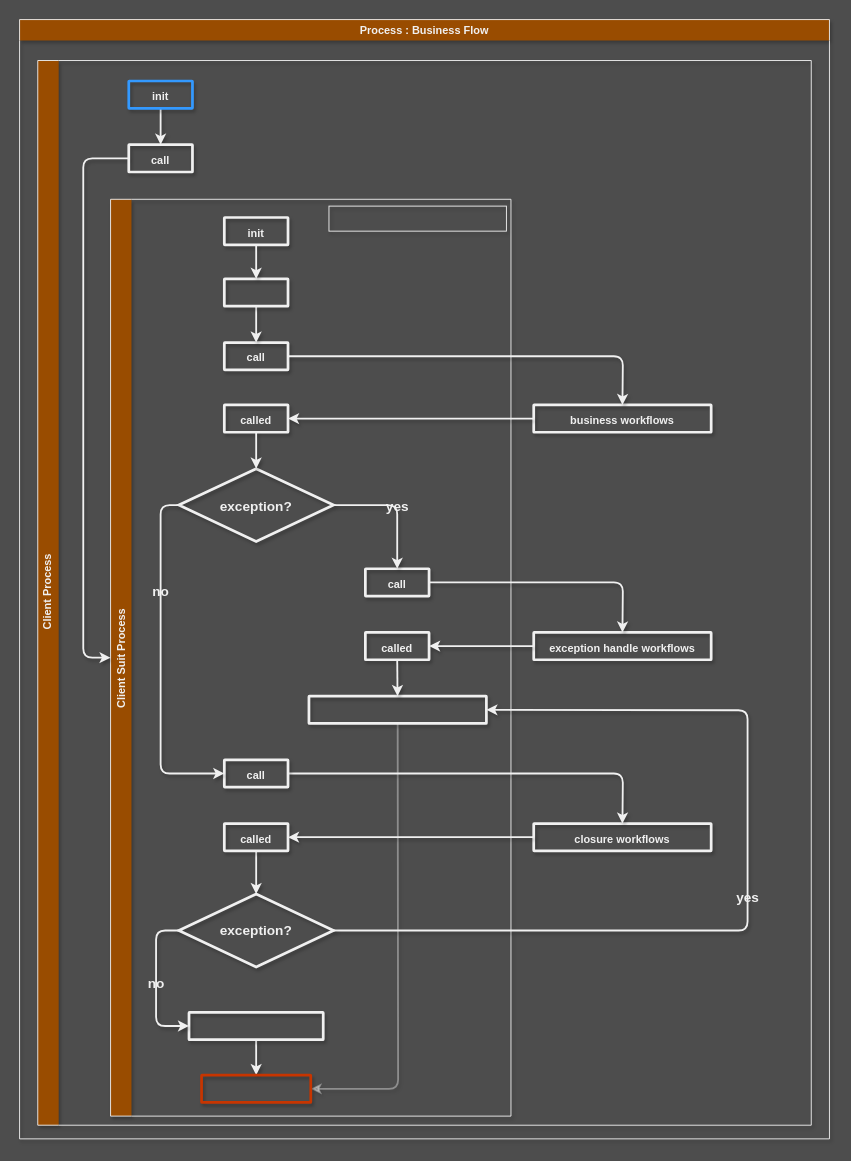
This 851x1161 diagram has some shape labels left out. Each missing label, with the centre of its shape:
"closure (core)" belongs at (x=257, y=1027).
"exception handle (core)" belongs at (x=398, y=711).
"inversion of control" belongs at (x=418, y=220).
"refer" belongs at (x=256, y=293).
"request process" belongs at (x=256, y=1090).
